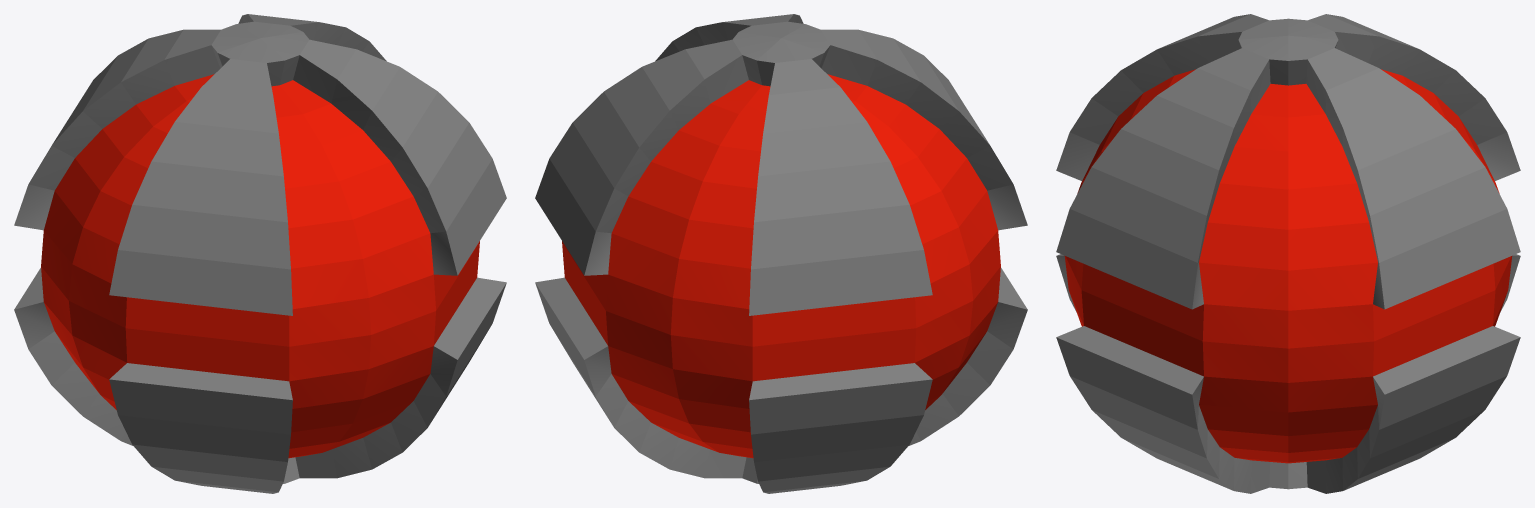
The model's file is Artillery_Projectile_Desert.fbx.
3 renders of one model, left to right at view 1: azimuth 30°, elevation 25°; view 2: azimuth 150°, elevation 25°; view 3: azimuth 270°, elevation 25°, orthographic.
Parts seen in each view (by area): view 1: pSphere1; view 2: pSphere1; view 3: pSphere1.
Part boxes in pixels (x1,y1,x2,y2): pSphere1: (14,14,506,493); pSphere1: (535,14,1027,493); pSphere1: (1056,14,1520,493).
Bounding box in the file's own units: 9 × 9.33 × 9.
